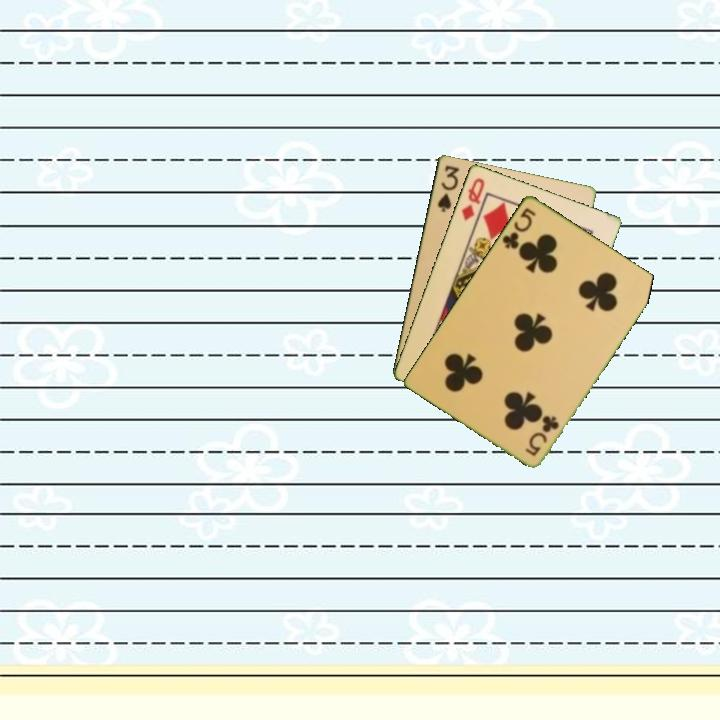3s: (434, 161, 462, 215)
5c: (521, 411, 562, 459), (498, 204, 538, 252)
Qd: (458, 174, 487, 223)
